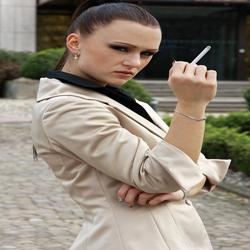smoking: (168, 44, 218, 109)
